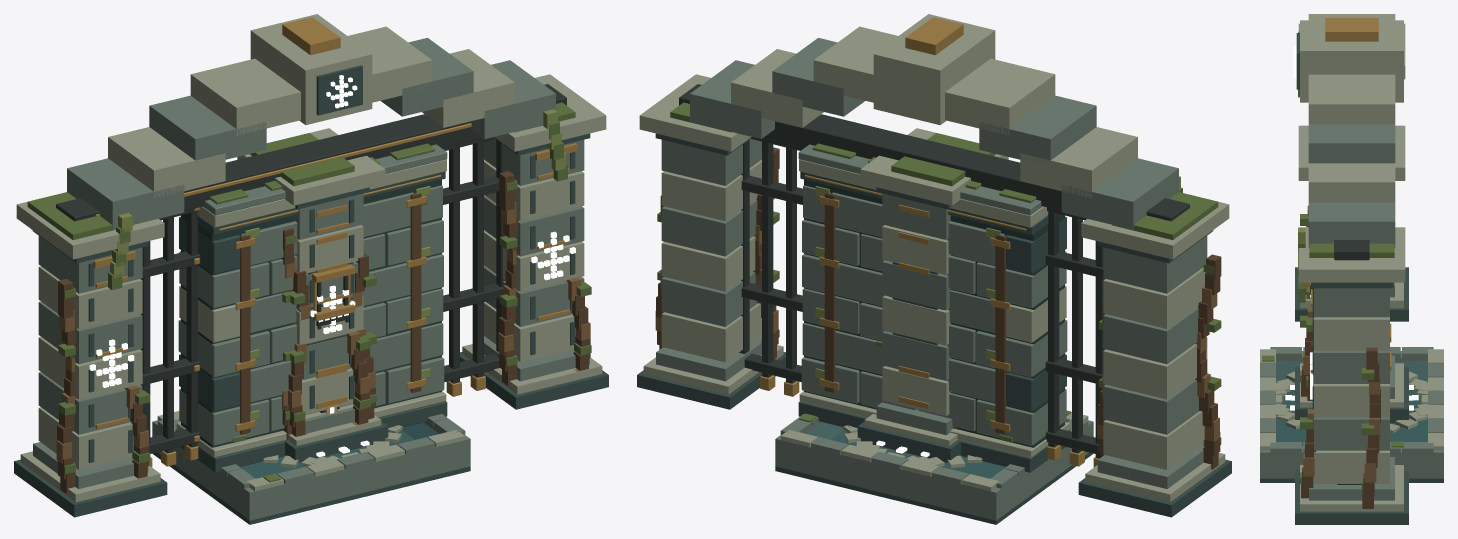
File: rootvault-kit.glb
3 views of the same model, side by side, from view 1: azimuth 30°, elevation 25°; view 2: azimuth 150°, elevation 25°; view 3: azimuth 270°, elevation 25° (orthographic). The views are drawn at different scales.
Visible parts, largest first — view 1: arch-stone, wall-stone, pillar-stone, gate-leaf, pool-stone, gate-stone, guardian-stone, arch-glow, brazier-stone, pool-water; view 2: arch-stone, wall-stone, pillar-stone, gate-leaf, pool-stone, gate-stone, guardian-stone, pool-water; view 3: arch-stone, pool-stone, pillar-stone, pool-water, guardian-stone, checkpoint-stone, gate-stone, seal-stone, arch-glow.
Boxes of the visible parts, box(x1,y1,x2,y2) form: arch-stone: box(14, 14, 608, 517); wall-stone: box(175, 143, 447, 472); pillar-stone: box(237, 128, 387, 461); gate-leaf: box(140, 137, 504, 467); pool-stone: box(152, 411, 470, 524); gate-stone: box(56, 84, 566, 221); guardian-stone: box(285, 232, 388, 462); arch-glow: box(89, 75, 575, 387); brazier-stone: box(312, 264, 355, 329); pool-water: box(240, 422, 438, 478); arch-stone: box(637, 14, 1231, 517); wall-stone: box(798, 143, 1070, 472); pillar-stone: box(857, 128, 1008, 462); gate-leaf: box(739, 137, 1105, 467); pool-stone: box(775, 410, 1093, 524); gate-stone: box(679, 84, 1189, 221); guardian-stone: box(857, 232, 960, 462); pool-water: box(807, 422, 1005, 478); arch-stone: box(1295, 14, 1408, 524); pool-stone: box(1260, 347, 1443, 482); pillar-stone: box(1295, 125, 1408, 421); pool-water: box(1276, 361, 1427, 445); guardian-stone: box(1295, 287, 1408, 423); checkpoint-stone: box(1276, 371, 1427, 432); gate-stone: box(1333, 240, 1369, 484); seal-stone: box(1276, 379, 1427, 433); arch-glow: box(1293, 45, 1313, 399).
Bounding box in the file's own units: 9.2 × 7.1 × 2.9.
